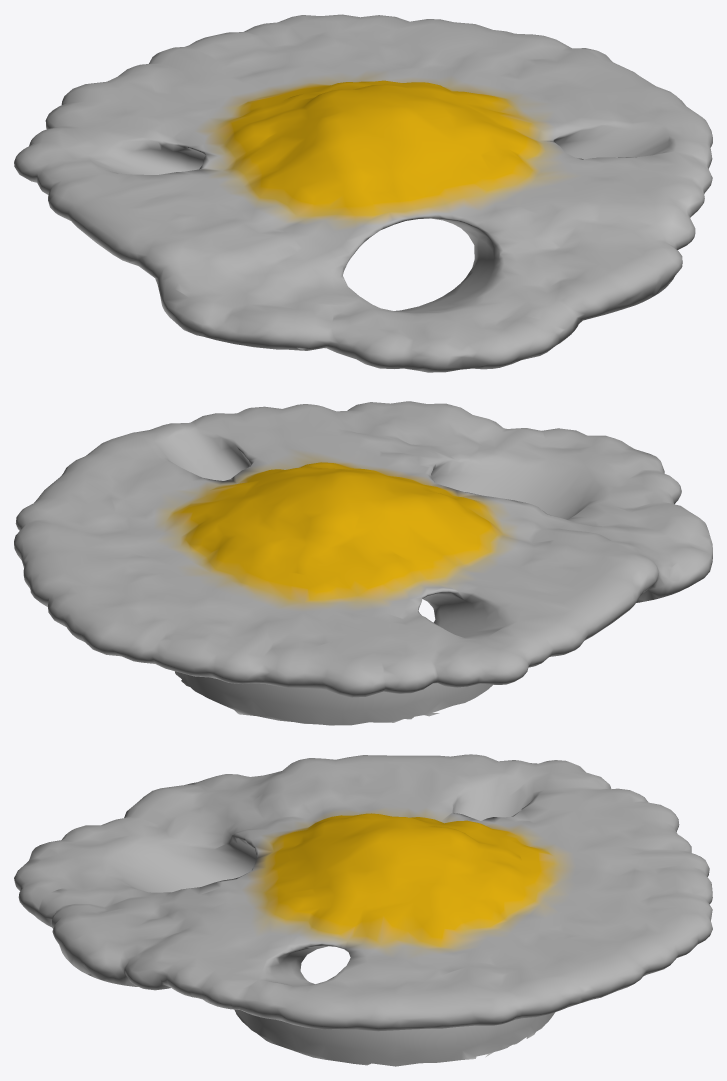
The model's file is TopLand.fbx.
3 renders of one model, top to bottom at view 1: azimuth 30°, elevation 25°; view 2: azimuth 150°, elevation 25°; view 3: azimuth 270°, elevation 25°, orthographic. The views are drawn at different scales.
Visible parts, largest first — view 1: TopLand; view 2: TopLand; view 3: TopLand.
Boxes of the visible parts, x1,y1,x2,y2 form: TopLand: (14, 14, 712, 372); TopLand: (14, 401, 712, 725); TopLand: (14, 754, 712, 1066).
Bounding box in the file's own units: 25648 × 7424 × 28646.
